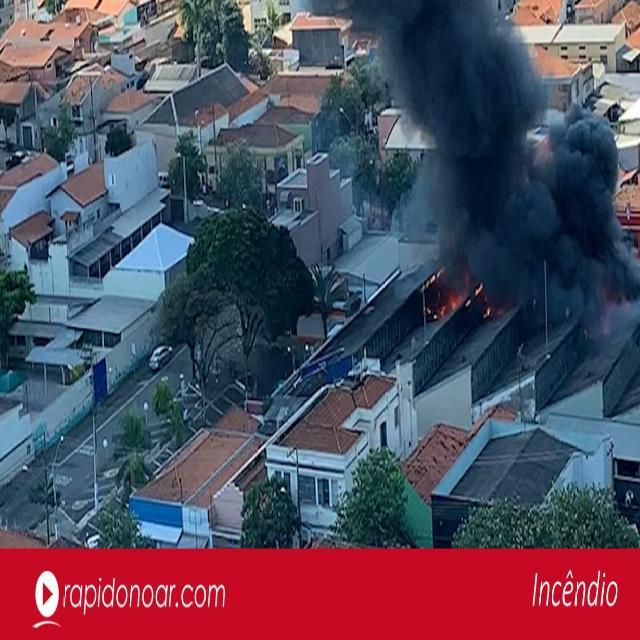Fire: (446, 290, 458, 310)
Smoke: (340, 5, 640, 336)
